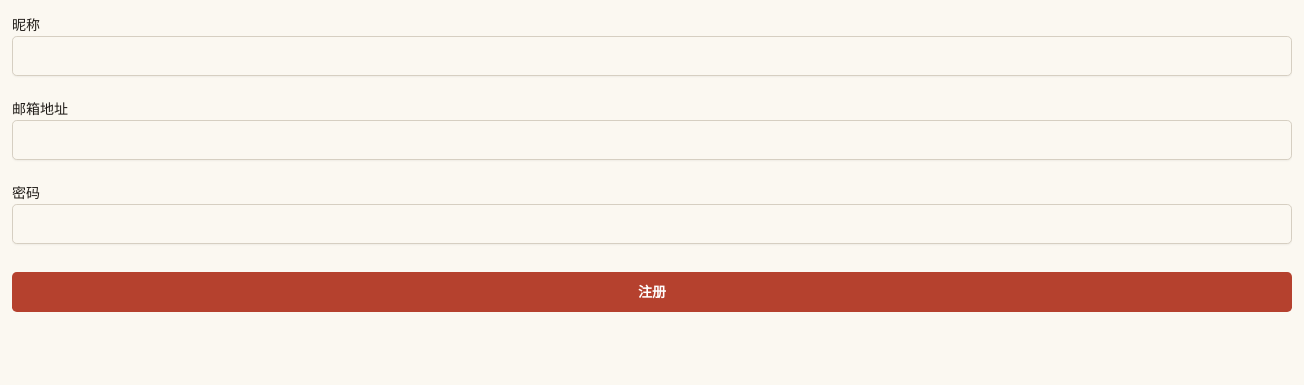
Test case: AuthForm › shows only the backend Chinese error message
Type "测试用户" into the field labelled "昵称".
click(652, 56); type("测试用户")  # box [12,36,1292,76]
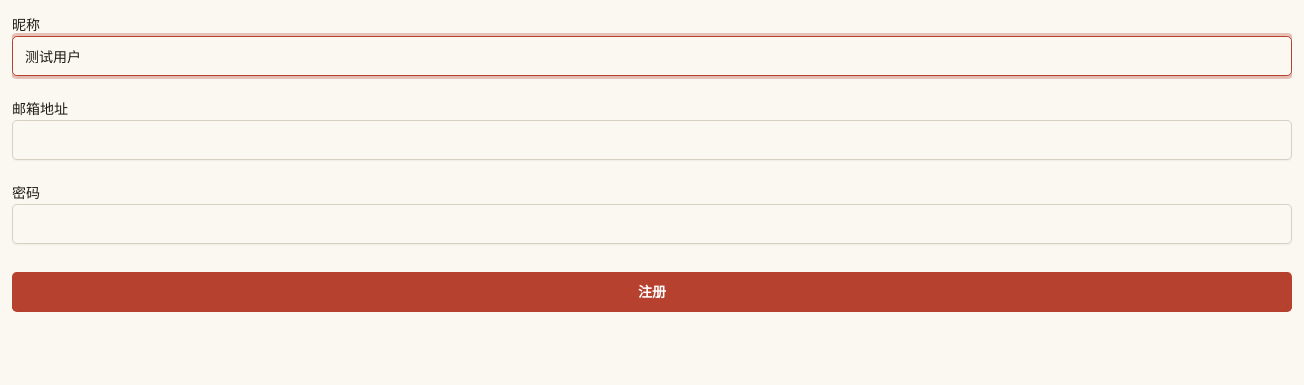
Type "user@example.com" into the field labelled "邮箱地址".
click(652, 140); type("user@example.com")  # box [12,120,1292,160]
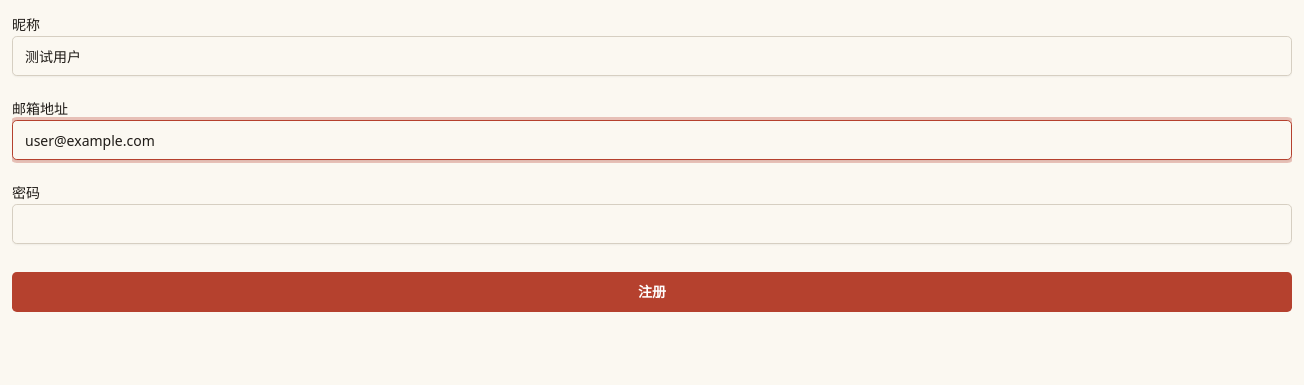
Type "password-1" into the password field labelled "密码".
click(652, 224); type("password-1")  # box [12,204,1292,244]
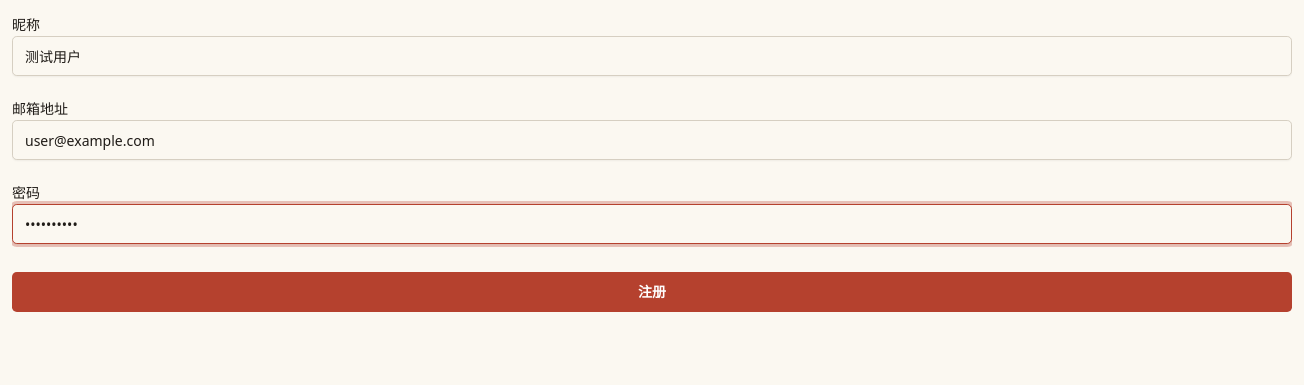
Click the button "注册".
click(652, 292)  # box [12,272,1292,312]
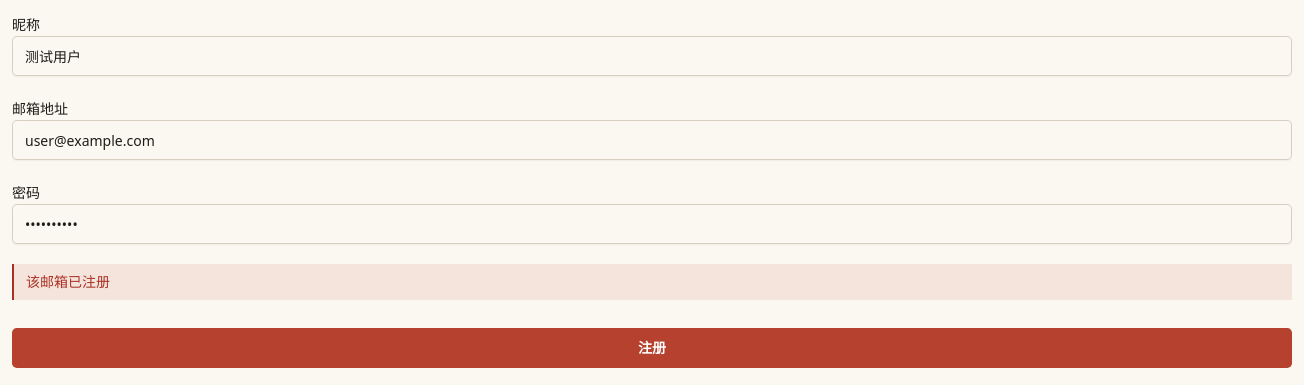
Result: the message reads "该邮箱已注册" at [26,272,110,291]
